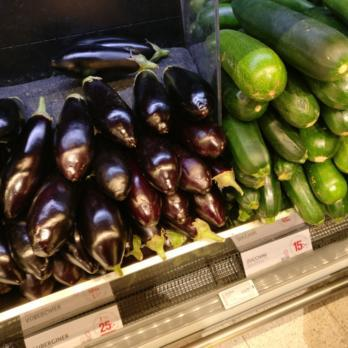Brinjal: (2, 94, 220, 249), (52, 36, 166, 75)
